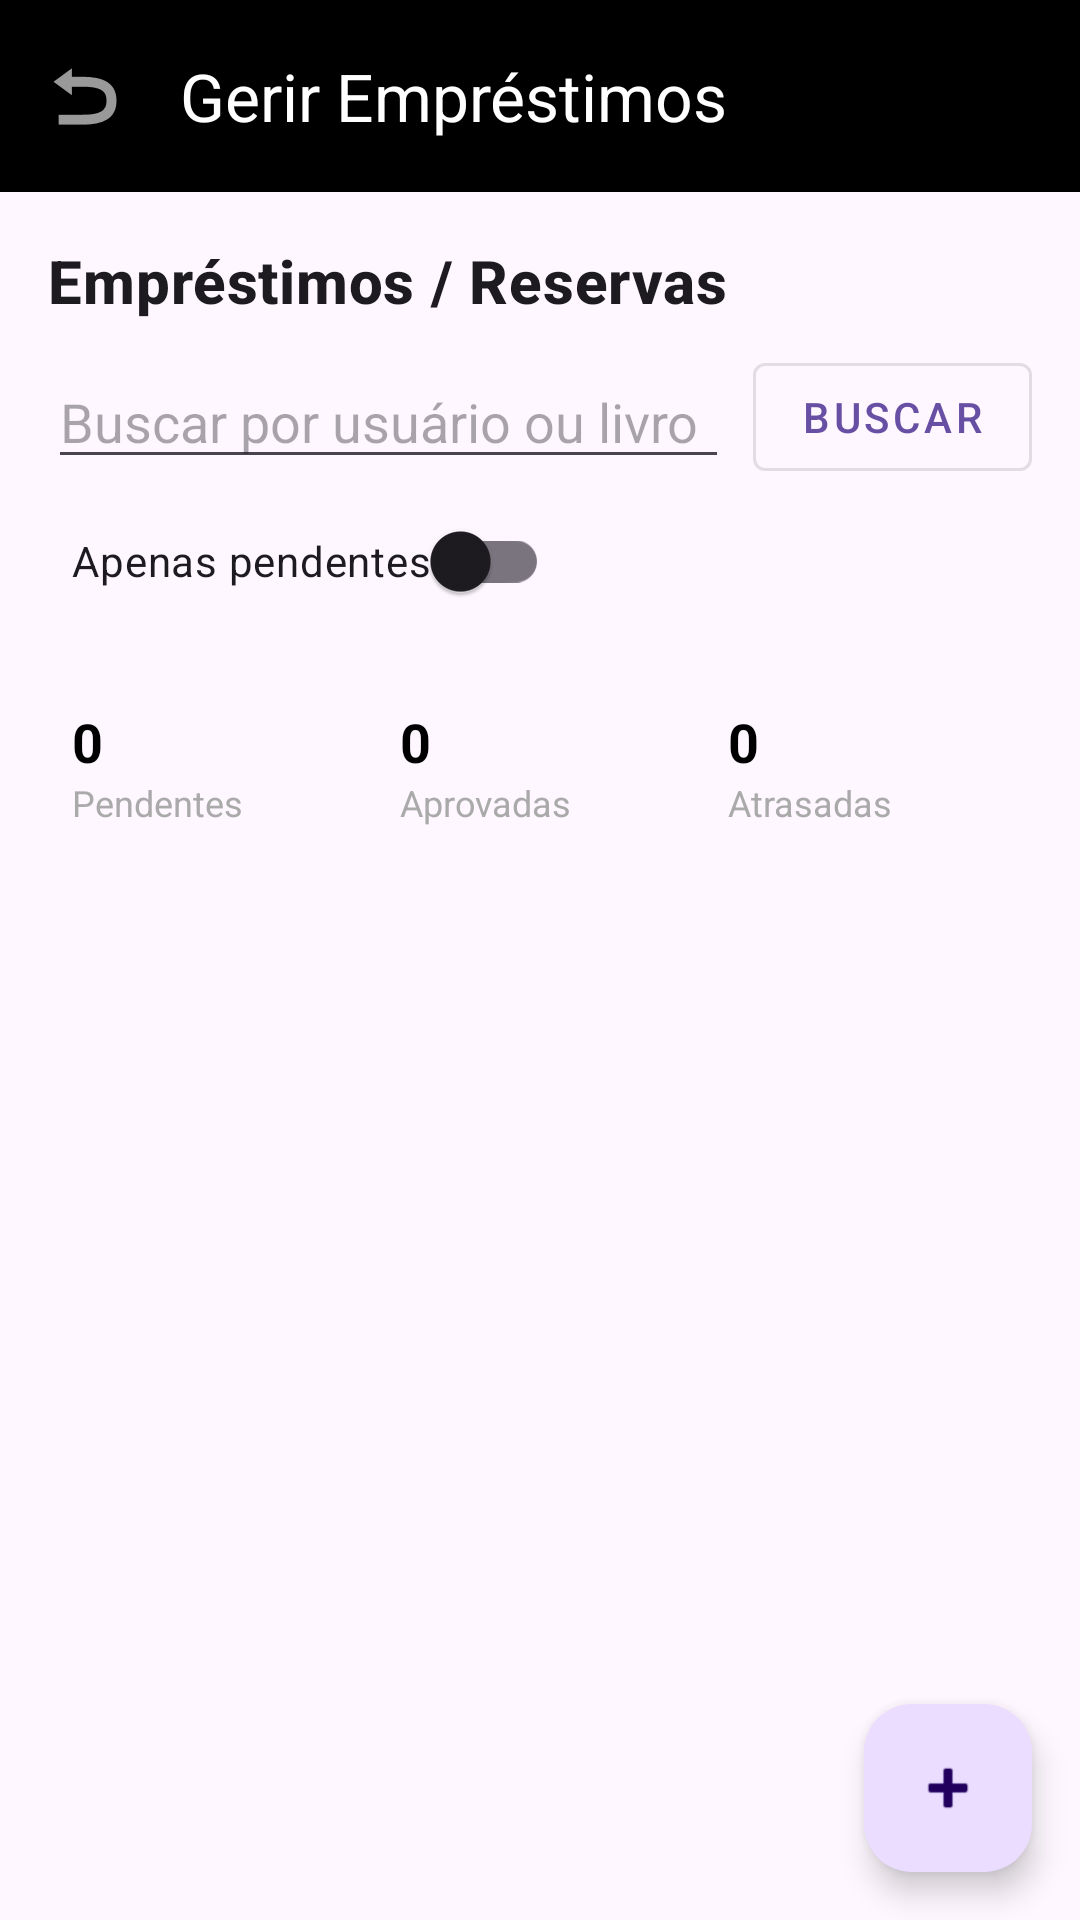

Icons on this 1080 × 1920 Android screen, each with its box as (x1, y1, x2, y2):
Nova reserva: (864, 1704, 1032, 1872)
